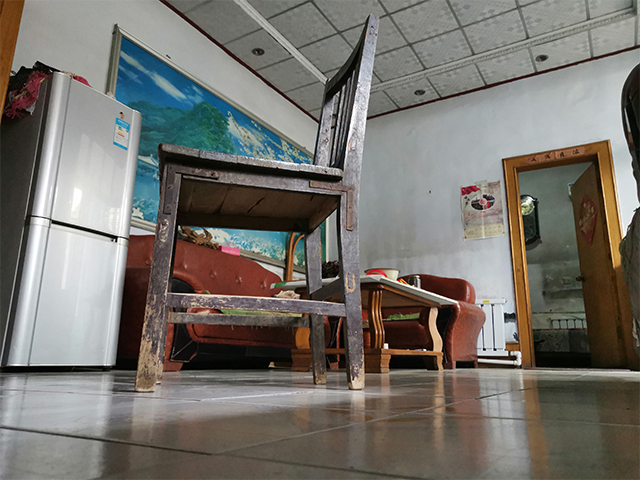sofa: (117, 234, 486, 371), (116, 228, 321, 373)
stool: (131, 11, 383, 394)
table: (268, 273, 460, 375)
